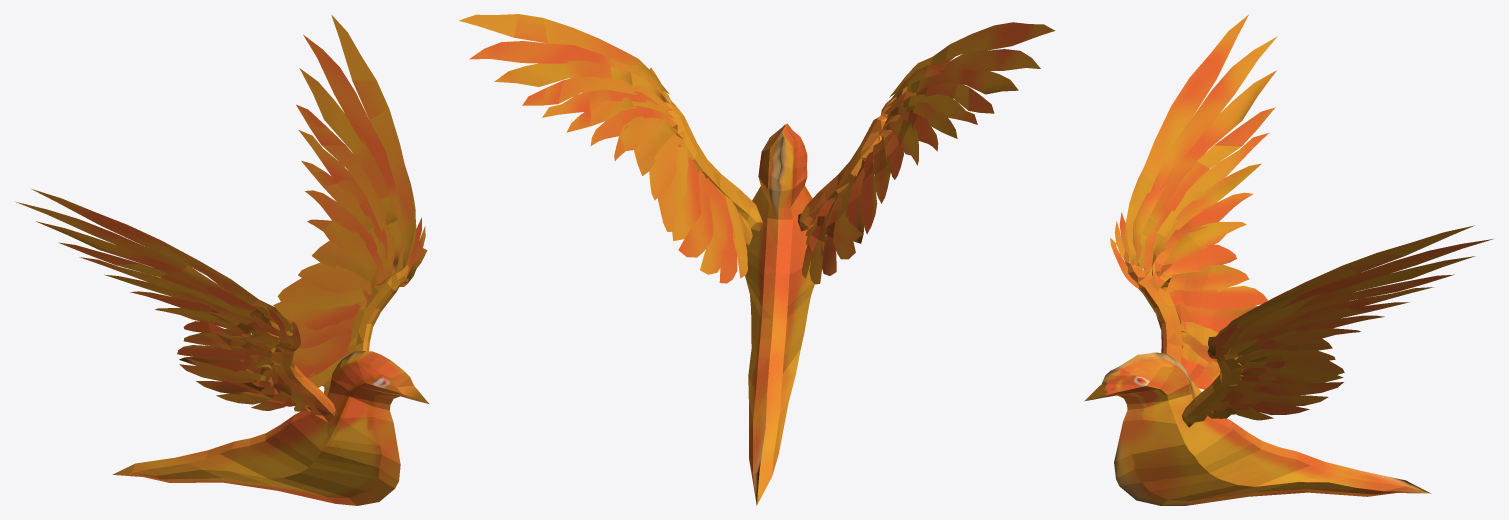
Rendered from phoenix.obj.
3 renders of one model, left to right at view 1: azimuth 30°, elevation 25°; view 2: azimuth 150°, elevation 25°; view 3: azimuth 270°, elevation 25°, orthographic. The views are drawn at different scales.
Parts seen in each view (by area): view 1: phoenix2_Cube.001; view 2: phoenix2_Cube.001; view 3: phoenix2_Cube.001.
Boxes of the visible parts, box(x1,y1,x2,y2) form: phoenix2_Cube.001: box(15, 15, 429, 505); phoenix2_Cube.001: box(459, 14, 1055, 505); phoenix2_Cube.001: box(1084, 14, 1493, 505).
Bounding box in the file's own units: 4.92 × 4.47 × 4.21.
